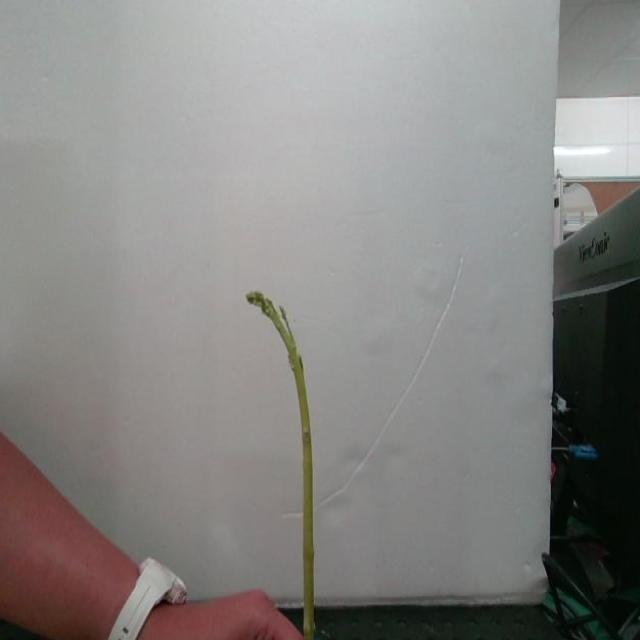aspargus: (247, 293, 317, 640)
